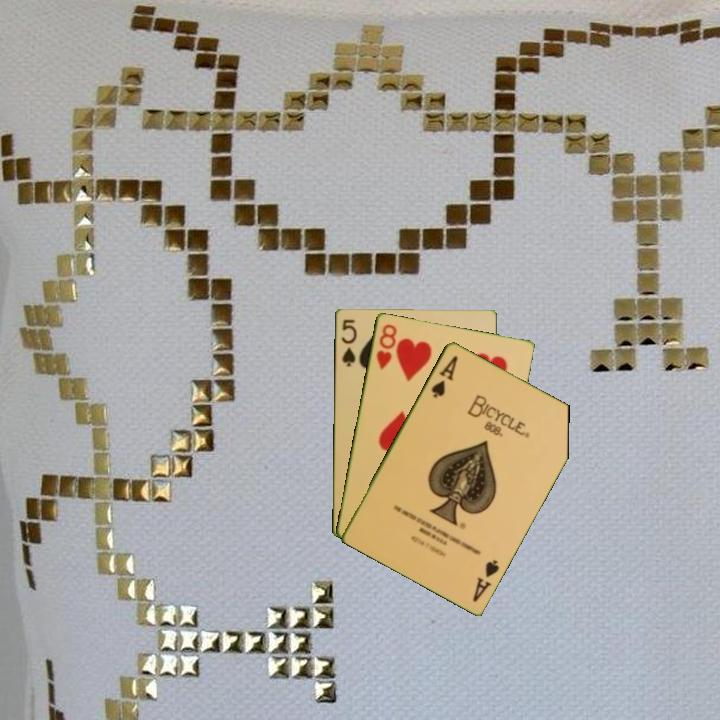5s: (338, 315, 359, 369)
8h: (373, 320, 400, 372)
As: (427, 351, 461, 400), (469, 555, 502, 604)
